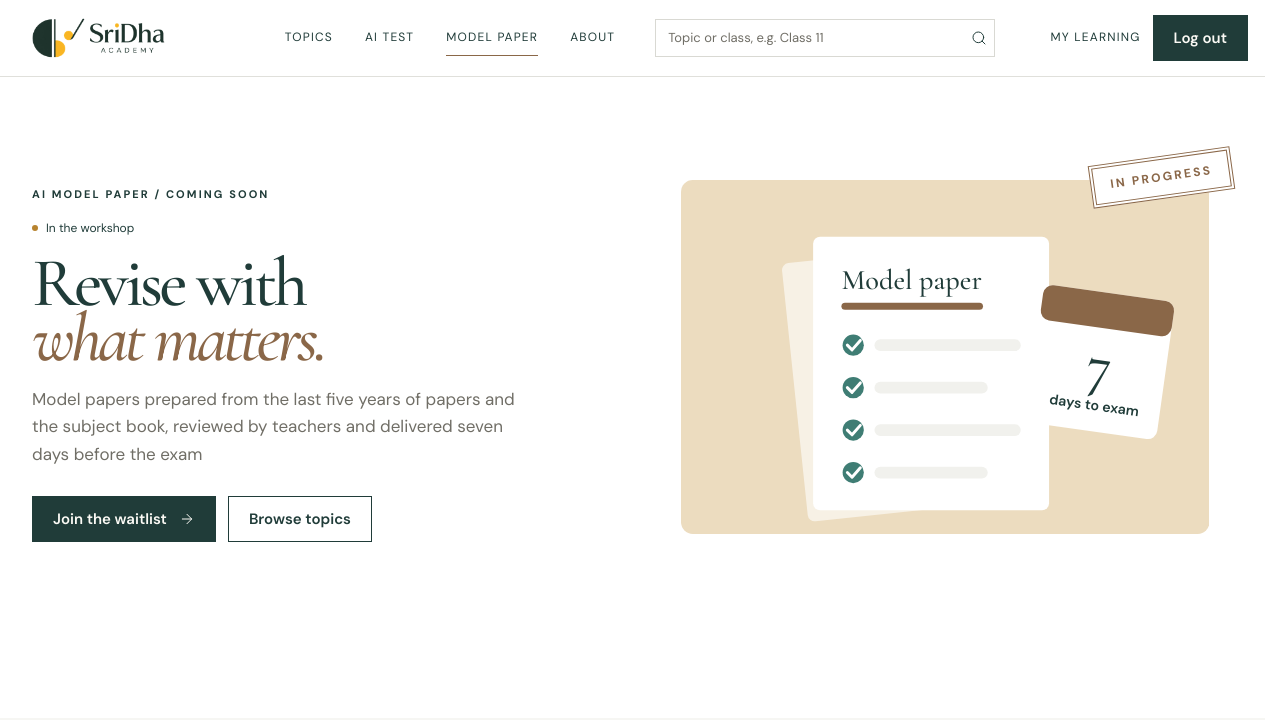
Scenario: app routing › opens the model paper waitlist from the model paper page
Click the button "Join the waitlist" at {"x": 124, "y": 519}, box [32,496,216,542]
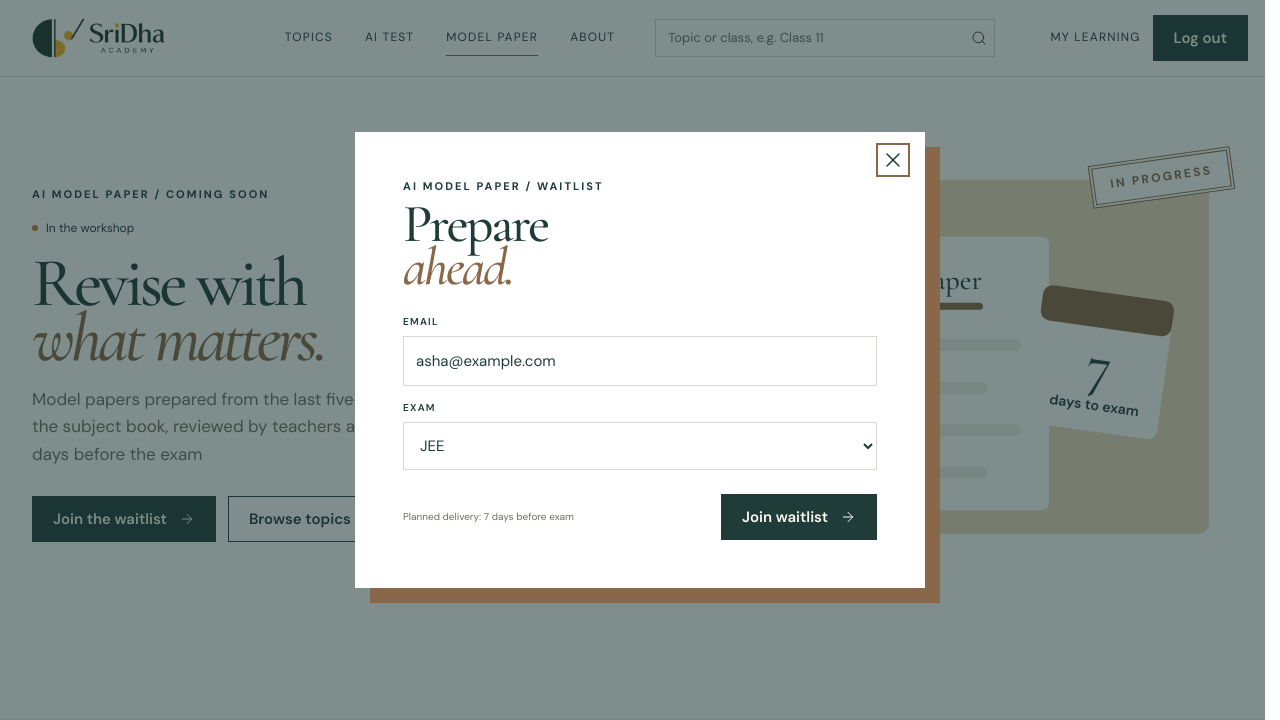
Check: the dialog is shown, box [355,132,925,588]
